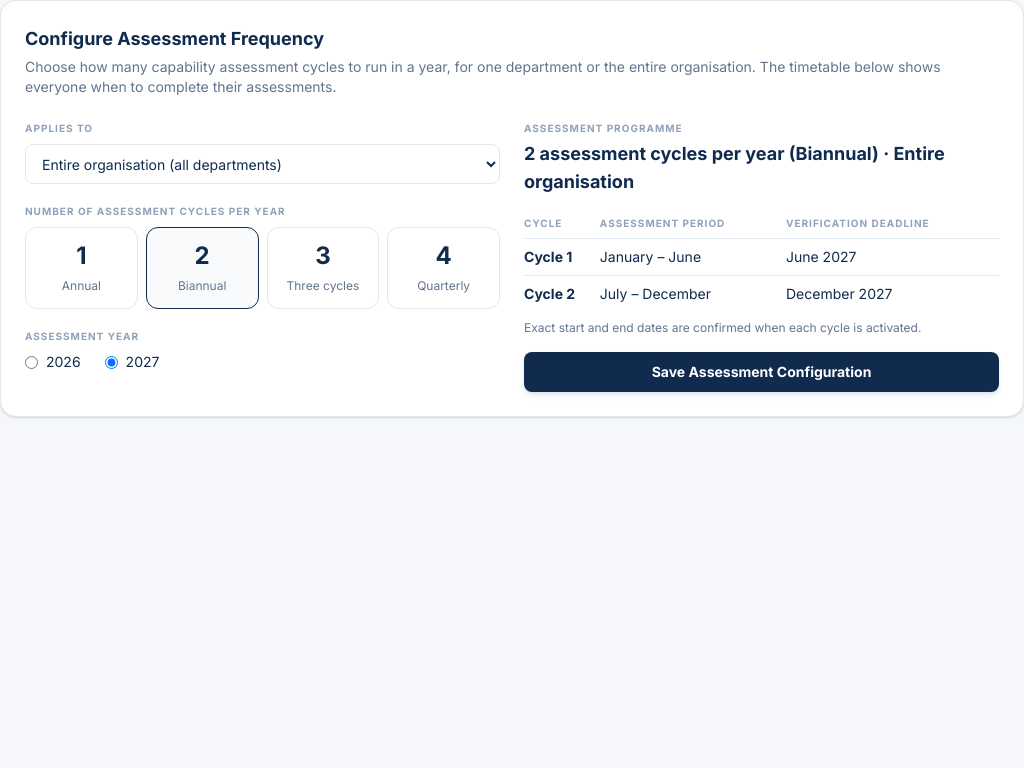
it: Assessment frequency › lets the admin pick scope and cycles, and shows the timetable
Select "Human Resources" in the dropdown labelled "Applies to". click: (262, 164)
box: [25,144,500,184]
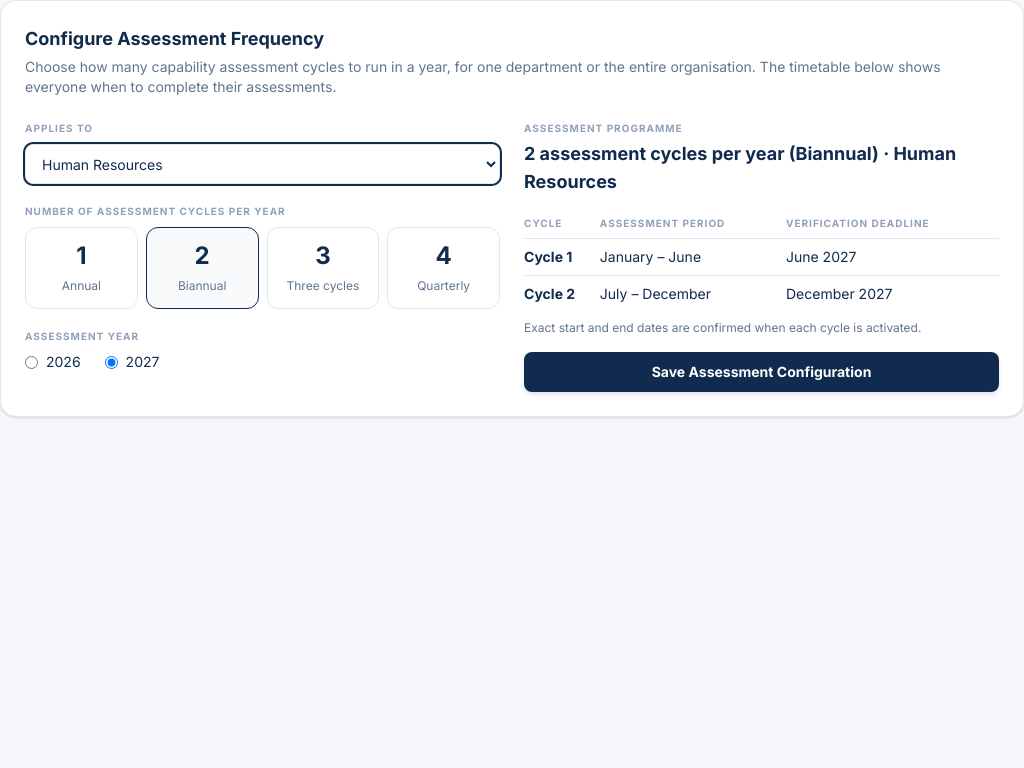
Click the radio button labelled "4 Quarterly". click: (444, 268)
box: [387,227,500,309]
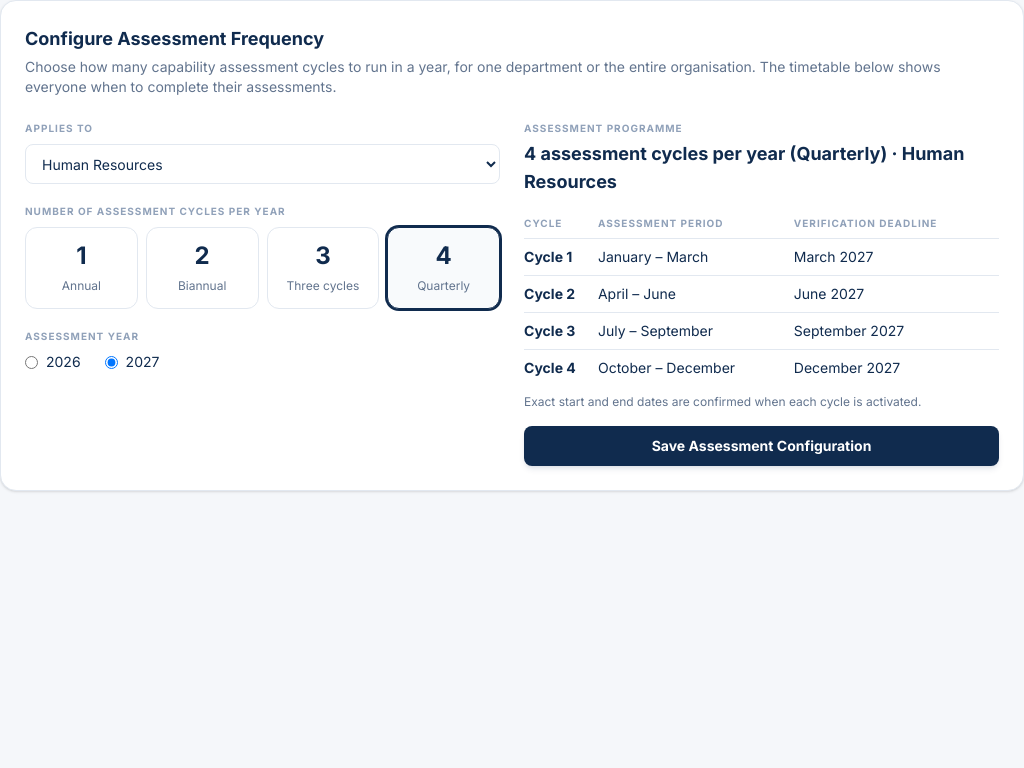
Check: the text "4 assessment cycles per year (Quarterly) · Human Resources" is shown, box [524,140,999,196]
Check: the text "October – December" is shown, box [598,350,794,386]
Click the button "Save Assessment Configuration". click: (762, 446)
box: [524,426,999,466]
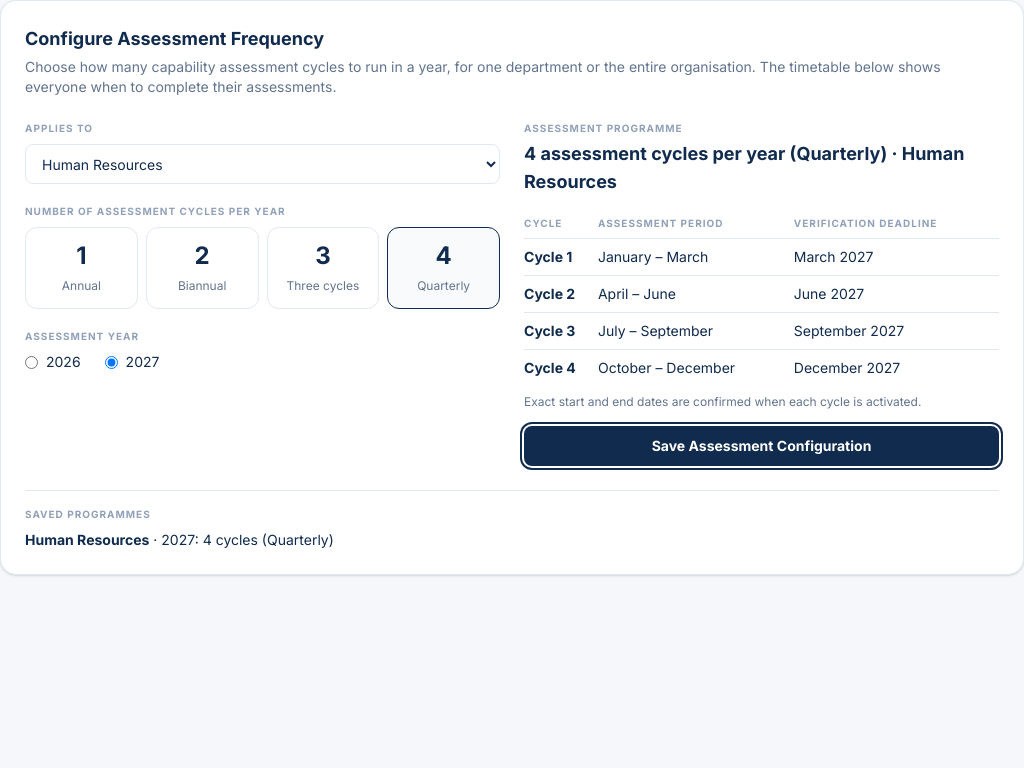
Check: the text "Saved programmes" is shown, box [25,508,151,520]
